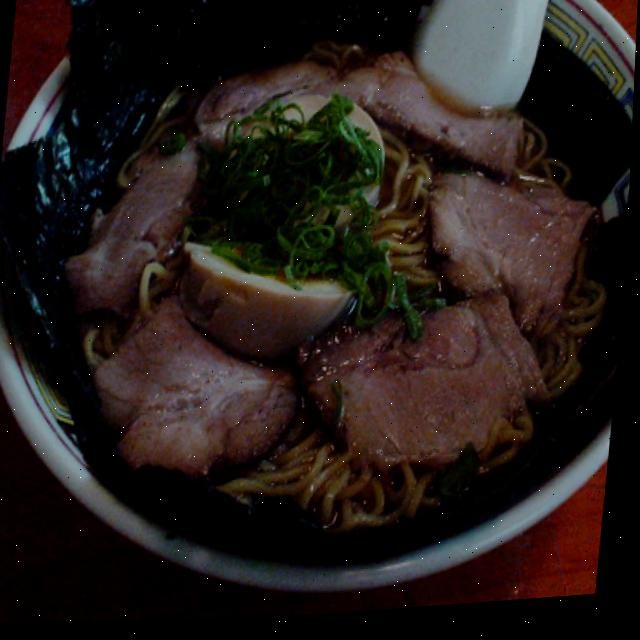面条主食: (0, 0, 640, 596)
